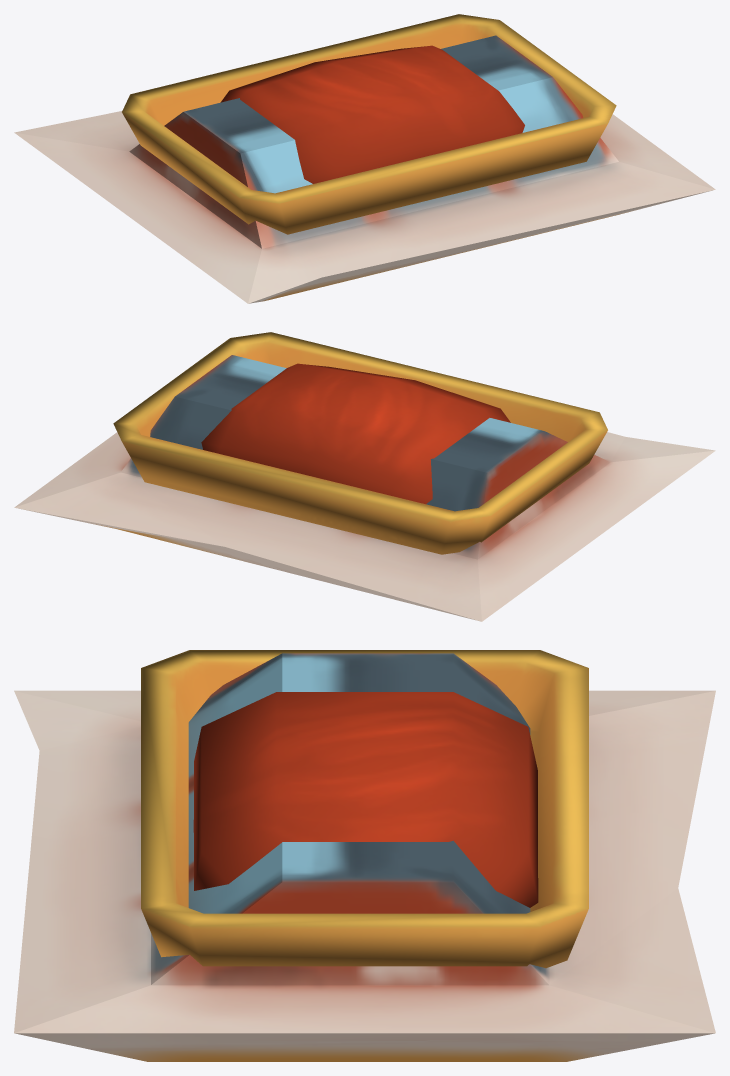
The model's file is podlojka farsh fish upakovka.fbx.
The picture shows the model from 3 angles, top to bottom: view 1: azimuth 30°, elevation 25°; view 2: azimuth 150°, elevation 25°; view 3: azimuth 270°, elevation 25°; orthographic projection. The views are drawn at different scales.
Parts seen in each view (by area): view 1: upakovka steik, podlojka, farsh; view 2: upakovka steik, podlojka, farsh; view 3: upakovka steik, podlojka, farsh.
Boxes of the visible parts, x1=… form: upakovka steik: x1=14, y1=35, x2=715, y2=303; podlojka: x1=122, y1=14, x2=616, y2=234; farsh: x1=220, y1=45, x2=524, y2=183; upakovka steik: x1=14, y1=355, x2=715, y2=621; podlojka: x1=113, y1=332, x2=607, y2=554; farsh: x1=201, y1=363, x2=510, y2=504; upakovka steik: x1=14, y1=653, x2=715, y2=1061; podlojka: x1=141, y1=650, x2=588, y2=968; farsh: x1=193, y1=692, x2=538, y2=907.
Size of the model in its own units: 25.85 by 6.47 by 22.39.
